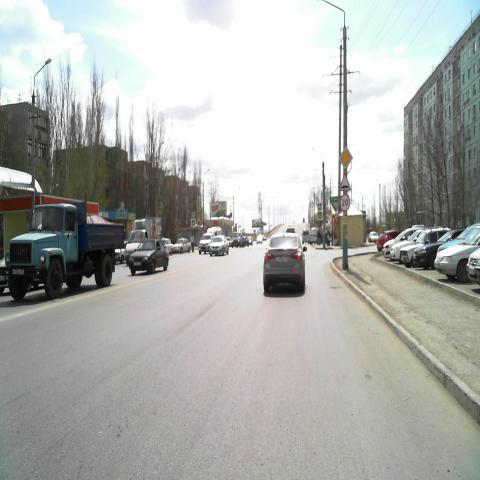1_17: (339, 173, 352, 191)
